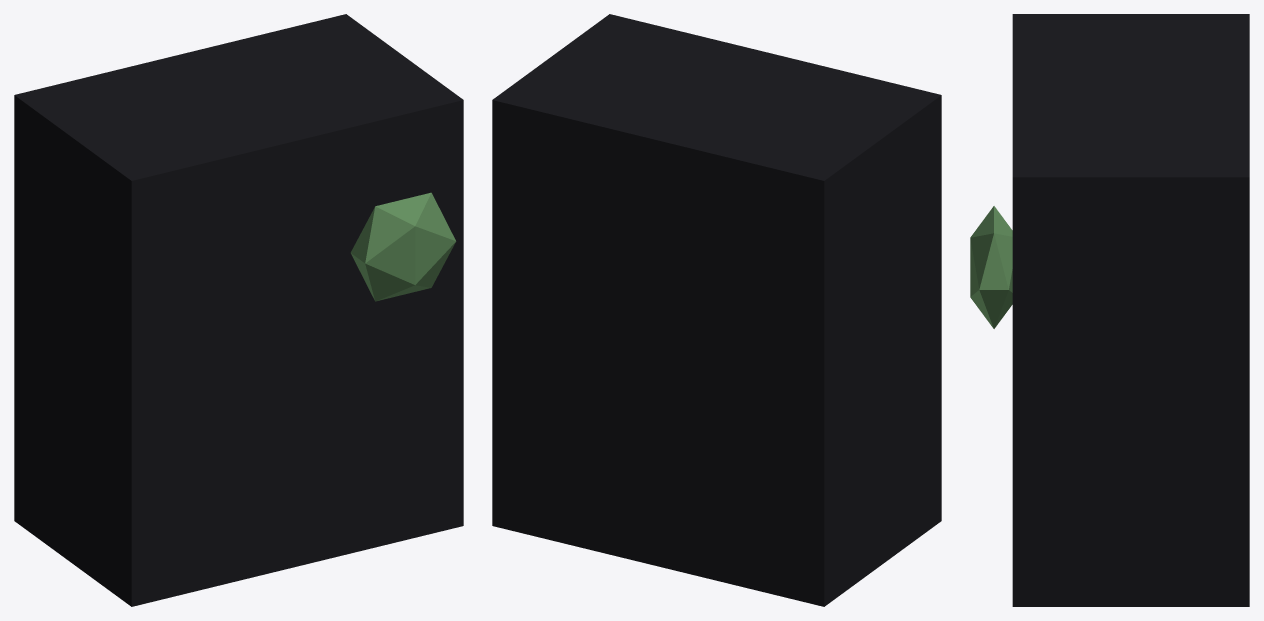
The model's file is body.glb.
The picture shows the model from 3 angles, left to right: view 1: azimuth 30°, elevation 25°; view 2: azimuth 150°, elevation 25°; view 3: azimuth 270°, elevation 25°; orthographic projection.
Visible parts, largest first — view 1: chest, chest_emblem; view 2: chest; view 3: chest, chest_emblem.
Boxes of the visible parts, x1,y1,x2,y2 form: chest: [14, 14, 463, 606]; chest_emblem: [350, 192, 456, 301]; chest: [492, 14, 941, 606]; chest: [1012, 14, 1249, 606]; chest_emblem: [970, 206, 1012, 328].
Bounding box in the file's own units: 0.62 × 0.76 × 0.4483.
